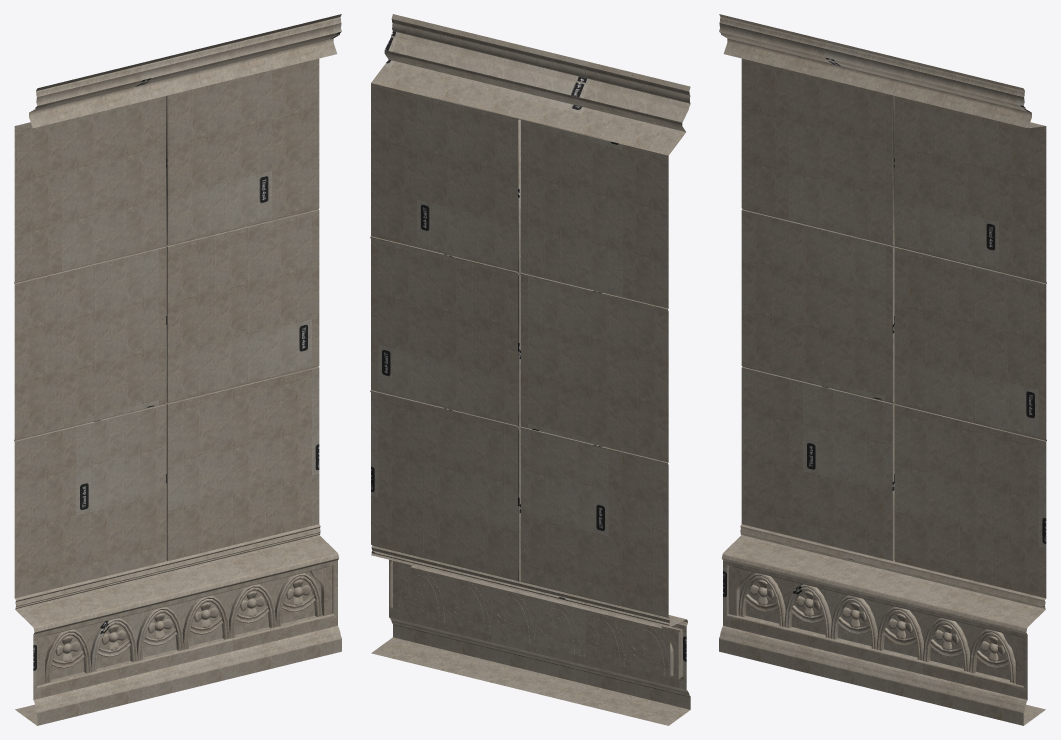
File: planeWall1.fbx
The picture shows the model from 3 angles, left to right: view 1: azimuth 30°, elevation 25°; view 2: azimuth 150°, elevation 25°; view 3: azimuth 330°, elevation 25°; orthographic projection. The views are drawn at different scales.
Parts seen in each view (by area): view 1: Plane.006; view 2: Plane.006; view 3: Plane.006.
Boxes of the visible parts, x1=… form: Plane.006: x1=14, y1=14, x2=341, y2=725; Plane.006: x1=370, y1=14, x2=690, y2=725; Plane.006: x1=719, y1=14, x2=1046, y2=725.
Size of the model in its own units: 200 by 400 by 27.62.
